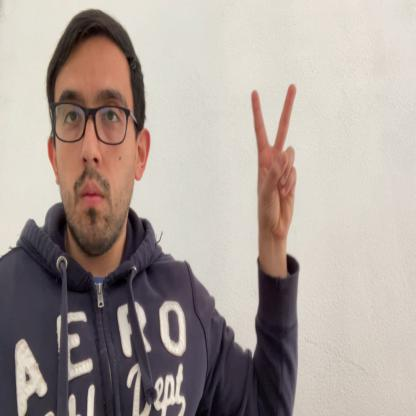V: (250, 83, 297, 245)
